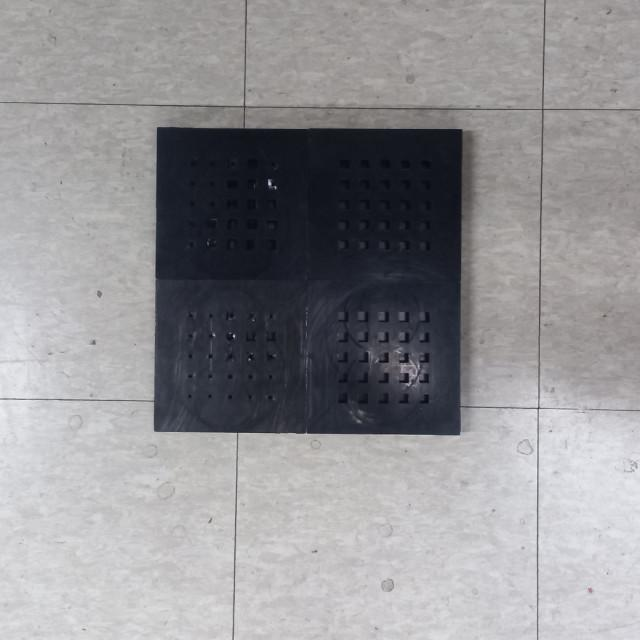pallet: (152, 123, 466, 438)
